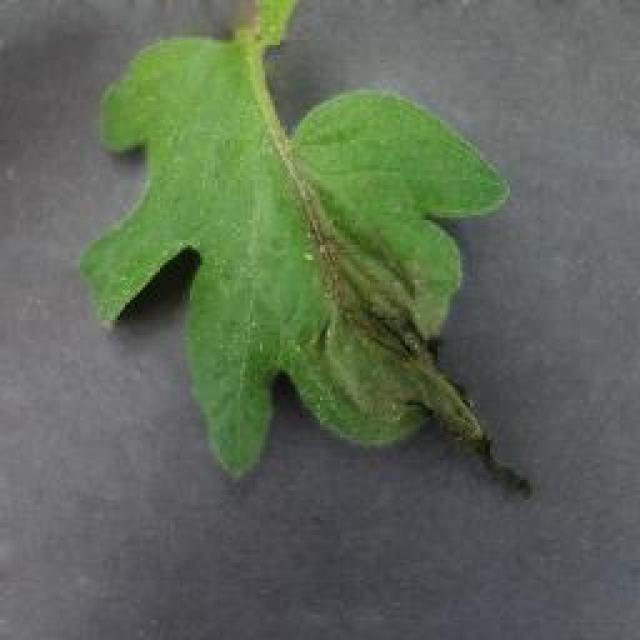Tomato Late Blight: (305, 263, 542, 495)
